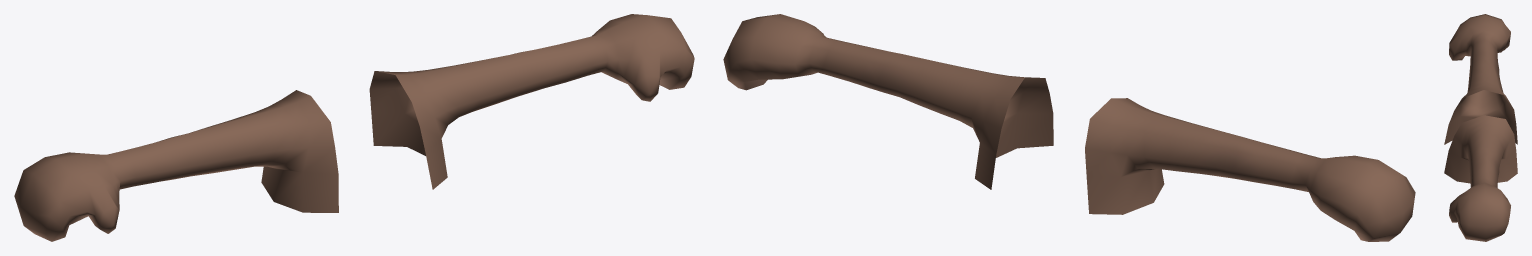
File: Body_Black_ArmB_1.fbx
3 renders of one model, left to right at view 1: azimuth 30°, elevation 25°; view 2: azimuth 150°, elevation 25°; view 3: azimuth 270°, elevation 25°, orthographic. The views are drawn at different scales.
Parts seen in each view (by area): view 1: Body_Black_ArmB_1; view 2: Body_Black_ArmB_1; view 3: Body_Black_ArmB_1.
Part boxes in pixels (x1,y1,x2,y2): Body_Black_ArmB_1: [14, 14, 694, 241]; Body_Black_ArmB_1: [723, 14, 1415, 241]; Body_Black_ArmB_1: [1444, 14, 1517, 241].
Bounding box in the file's own units: 130 × 17.74 × 20.37.
